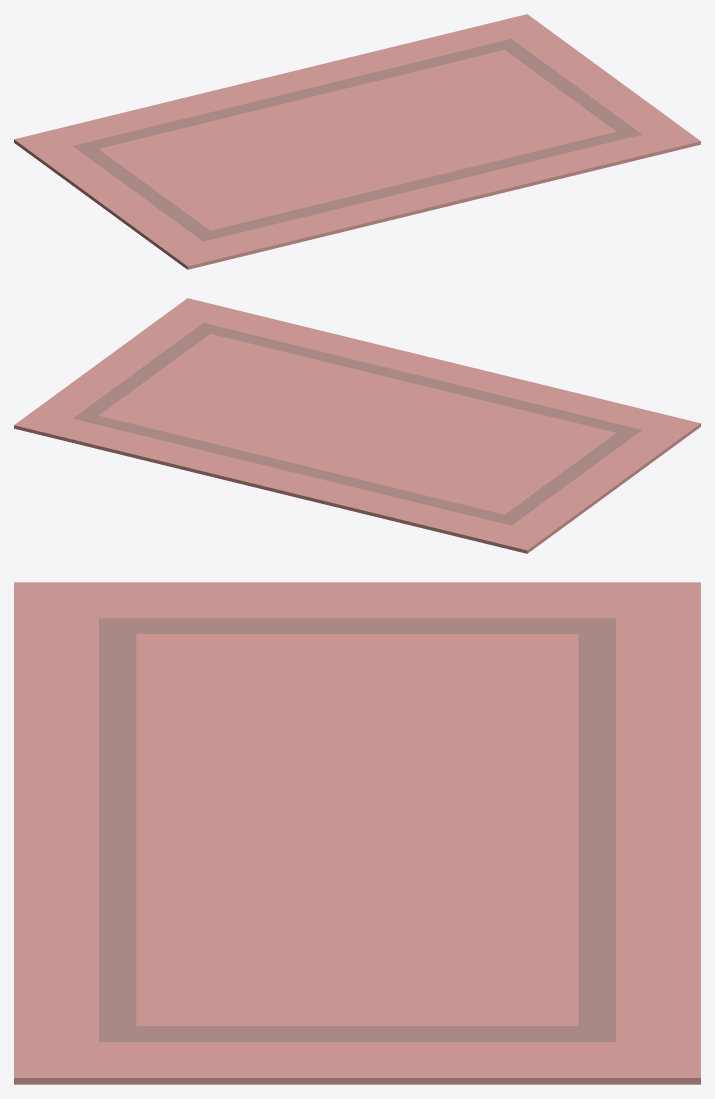
Rendered from rug.glb.
3 views of the same model, one above another, from view 1: azimuth 30°, elevation 25°; view 2: azimuth 150°, elevation 25°; view 3: azimuth 270°, elevation 25° (orthographic). The views are drawn at different scales.
Parts seen in each view (by area): view 1: rugRectangle(Clone); view 2: rugRectangle(Clone); view 3: rugRectangle(Clone).
Part boxes in pixels (box(x1,y1,x2,y2)): rugRectangle(Clone): box(14, 14, 700, 269); rugRectangle(Clone): box(14, 298, 700, 553); rugRectangle(Clone): box(14, 582, 700, 1084).
Bounding box in the file's own units: 3.3 × 0.021 × 1.93.
